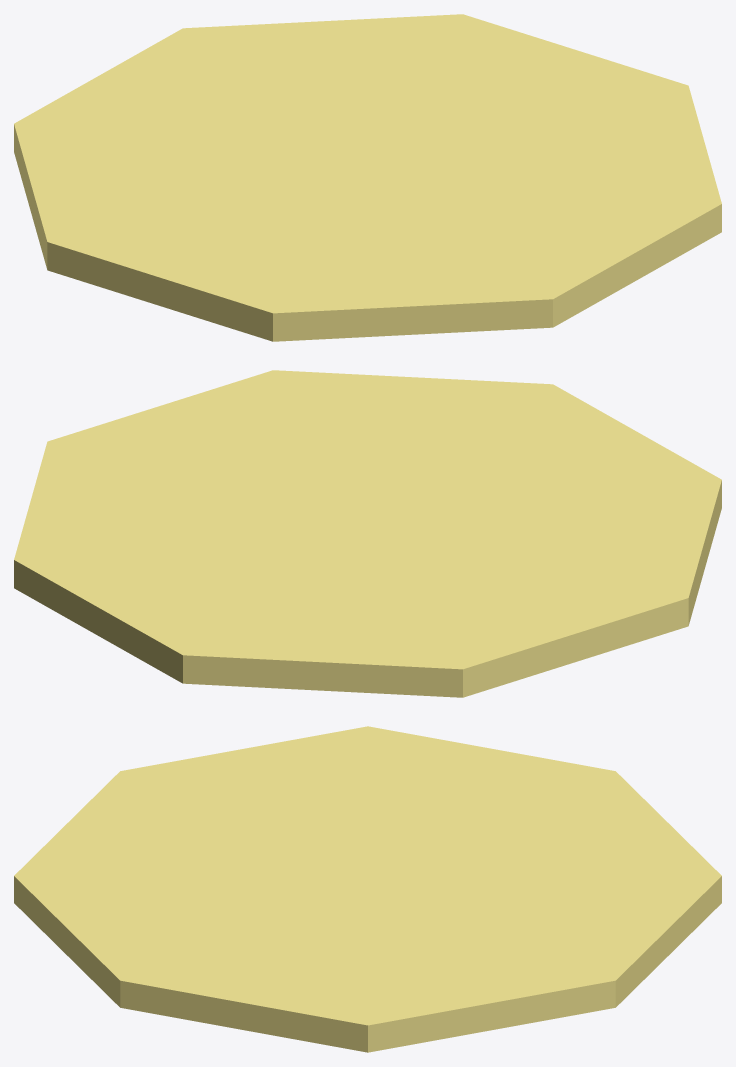
The model's file is OmeletteBowl.fbx.
3 renders of one model, top to bottom at view 1: azimuth 30°, elevation 25°; view 2: azimuth 150°, elevation 25°; view 3: azimuth 270°, elevation 25°, orthographic. The views are drawn at different scales.
Parts seen in each view (by area): view 1: OmeletteBowl; view 2: OmeletteBowl; view 3: OmeletteBowl.
Part boxes in pixels (<box>): OmeletteBowl: <box>14,14,721,341</box>; OmeletteBowl: <box>14,370,721,697</box>; OmeletteBowl: <box>14,726,721,1052</box>.
Size of the model in its own units: 275 by 11.62 by 275.
